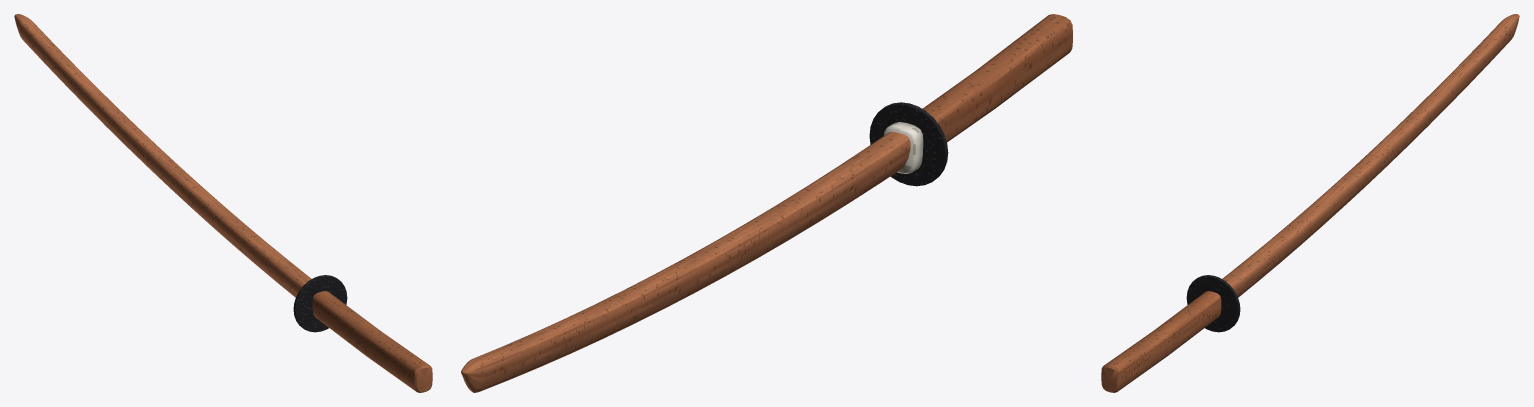
Rendered from w_katana_bokken.glb.
3 views of the same model, side by side, from view 1: azimuth 30°, elevation 25°; view 2: azimuth 150°, elevation 25°; view 3: azimuth 330°, elevation 25° (orthographic). The views are drawn at different scales.
Parts seen in each view (by area): view 1: bok_blade_wzB, bok_tsuka_wzA, bok_guard_wzN; view 2: bok_blade_wzB, bok_tsuka_wzA, bok_guard_wzN; view 3: bok_blade_wzB, bok_tsuka_wzA, bok_guard_wzN.
Part boxes in pixels (box(x1,y1,x2,y2)): bok_blade_wzB: box(14, 14, 311, 297); bok_tsuka_wzA: box(312, 291, 432, 392); bok_guard_wzN: box(293, 275, 347, 332); bok_blade_wzB: box(461, 131, 910, 392); bok_tsuka_wzA: box(922, 14, 1072, 142); bok_guard_wzN: box(869, 102, 948, 186); bok_blade_wzB: box(1222, 14, 1519, 297); bok_tsuka_wzA: box(1101, 291, 1221, 392); bok_guard_wzN: box(1186, 275, 1240, 332).
Bounding box in the file's own units: 0.076 × 0.1324 × 1.02.
Materials: 4 (4 with a texture image).
